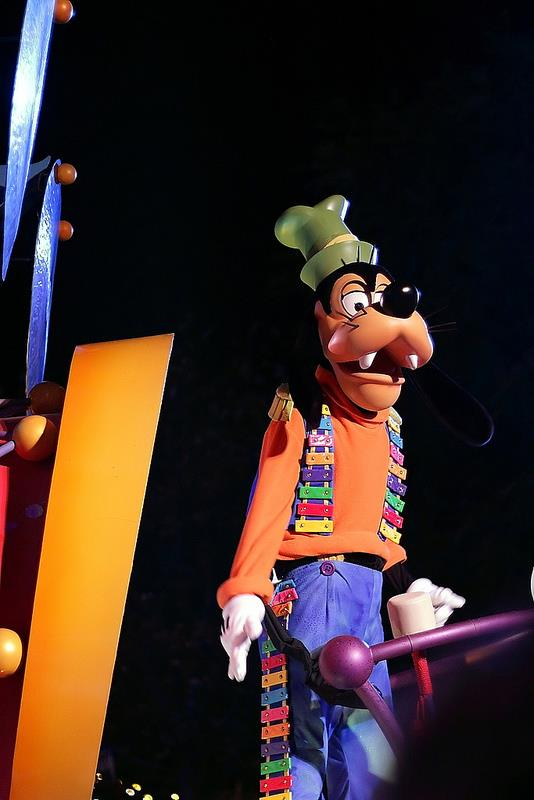Goofy: (295, 243, 451, 416)
